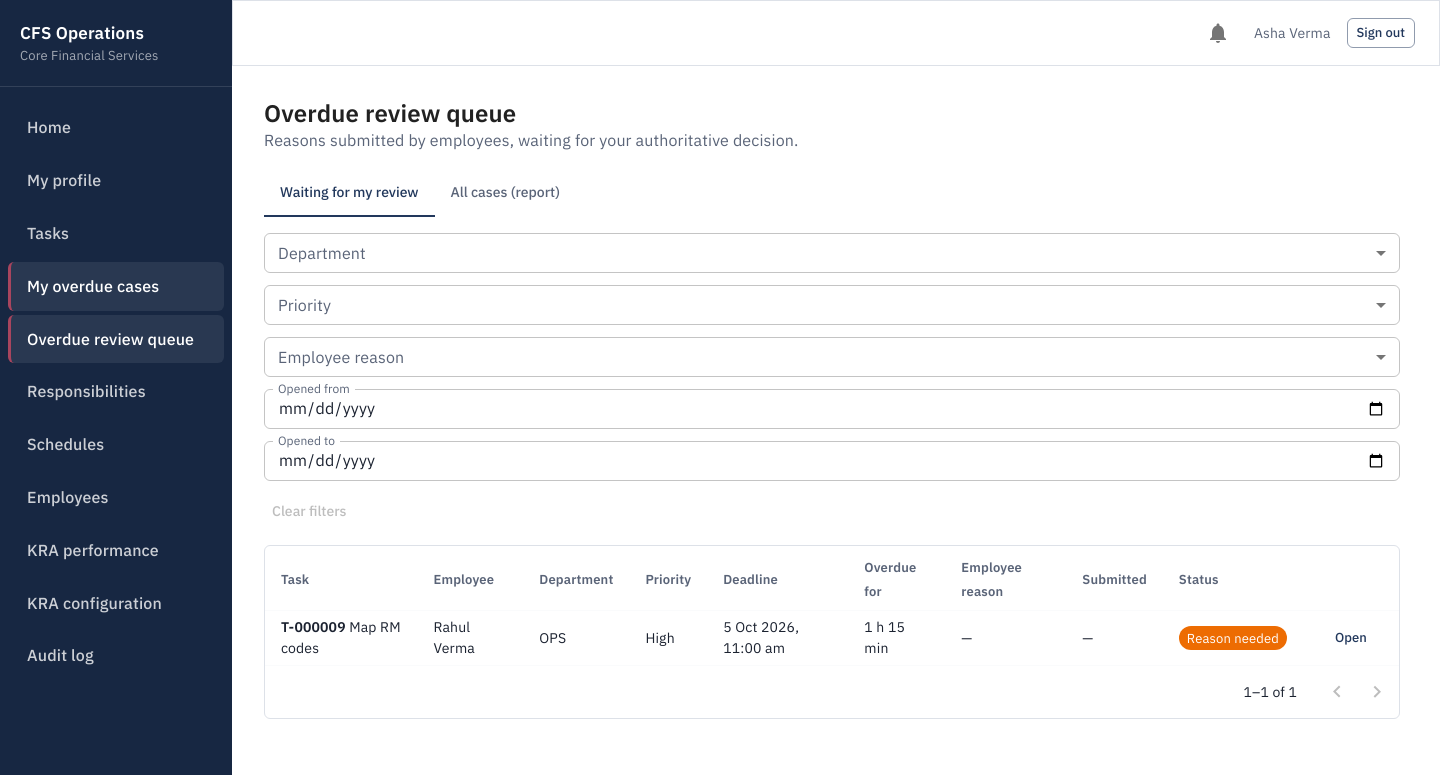
Test: Overdue report and export (Stage 5.3) › HR sees the export controls
Click the tab "All cases (report)" at point(505, 193), box [435, 169, 576, 217]
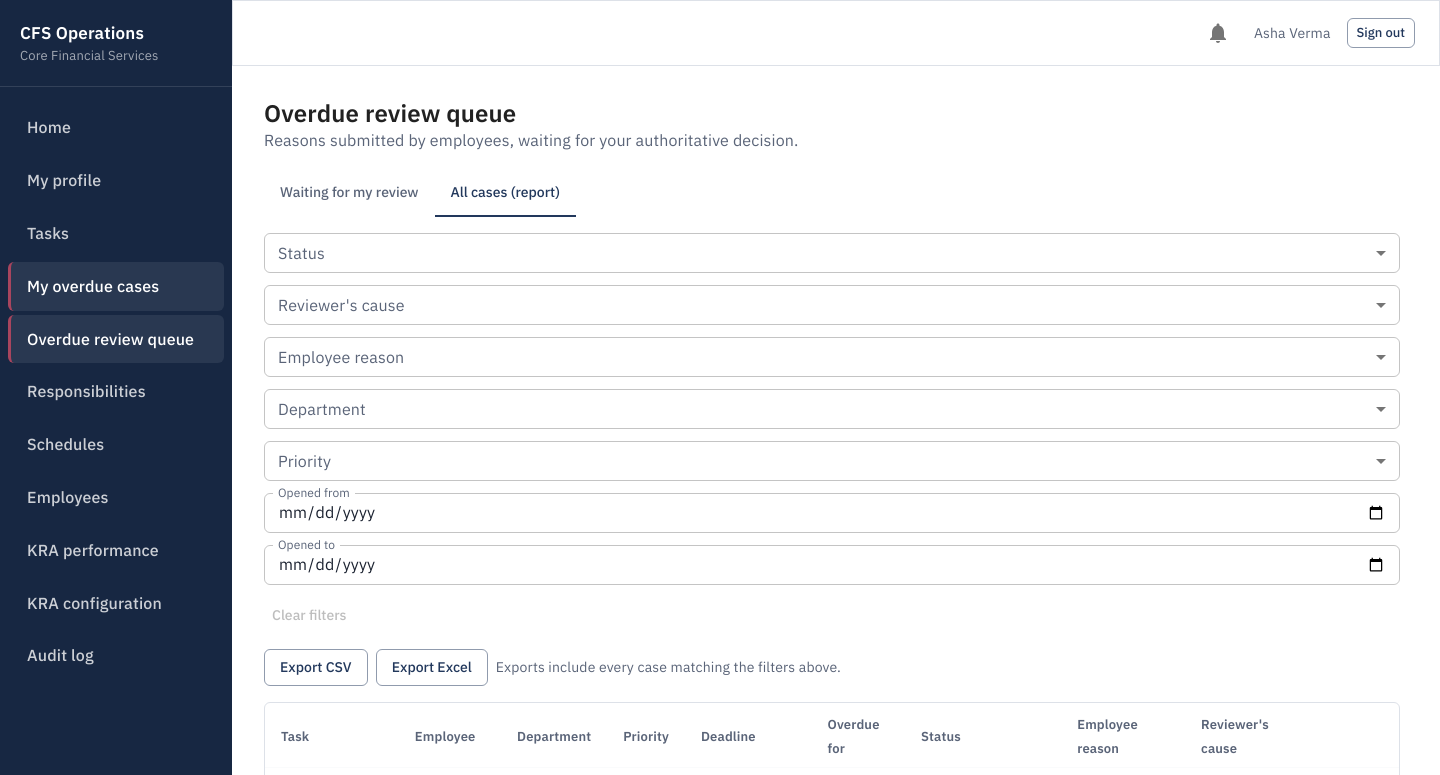
Now the button "Export CSV" is enabled, box [264, 649, 368, 686]
Now the button "Export Excel" is enabled, box [376, 649, 488, 686]
